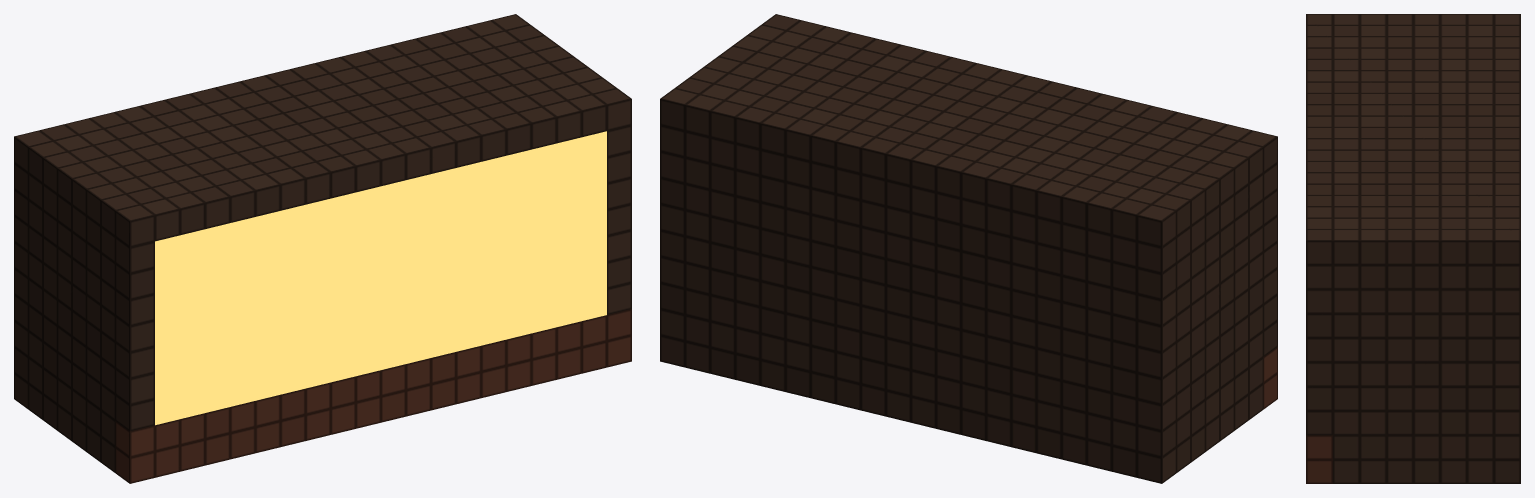
File: soffit_segment.glb
3 renders of one model, left to right at view 1: azimuth 30°, elevation 25°; view 2: azimuth 150°, elevation 25°; view 3: azimuth 270°, elevation 25°, orthographic. The views are drawn at different scales.
Parts seen in each view (by area): view 1: soffit_segment; view 2: soffit_segment; view 3: soffit_segment.
Part boxes in pixels (<box>): soffit_segment: <box>14,14,631,483</box>; soffit_segment: <box>660,14,1277,483</box>; soffit_segment: <box>1306,14,1520,483</box>.
Bounding box in the file's own units: 1 × 0.5 × 0.4.
3 materials, 2 textured.
